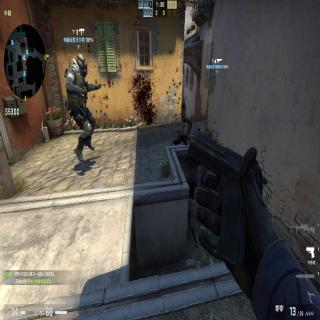CT-Body: (64, 52, 102, 164)
CT-Head: (77, 54, 88, 78)
